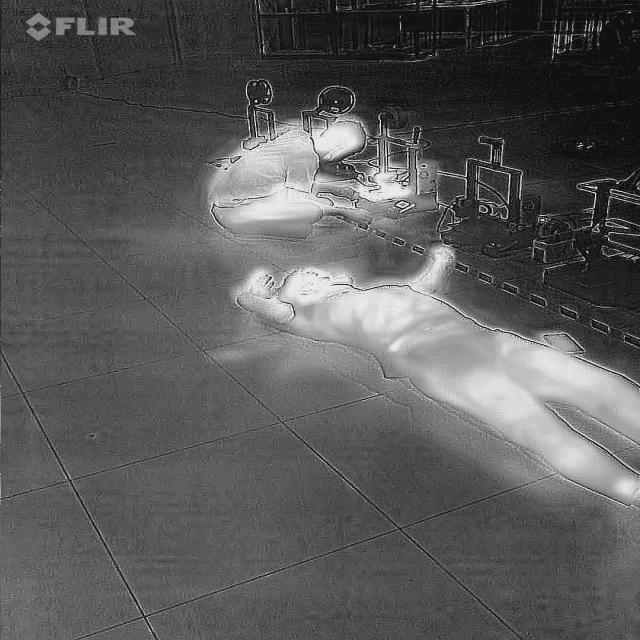Victim: (232, 241, 640, 519), (193, 112, 378, 242)
